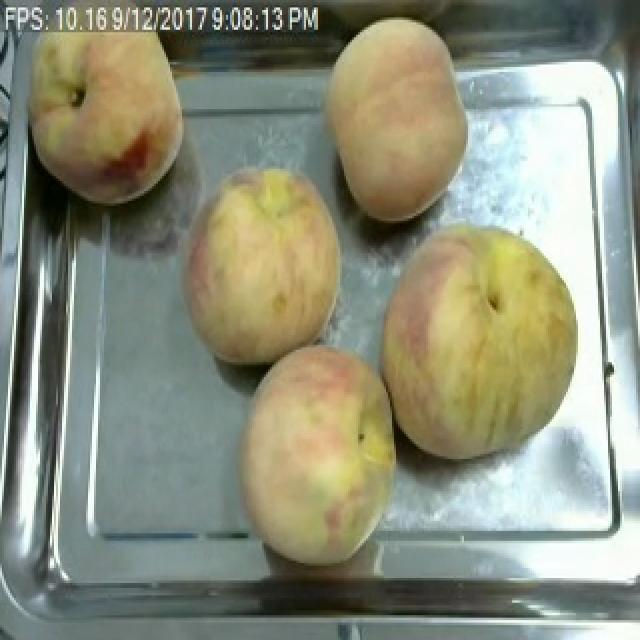Fruit: (370, 211, 592, 469), (230, 337, 408, 573), (172, 156, 352, 375), (310, 7, 478, 231), (8, 30, 196, 213)
